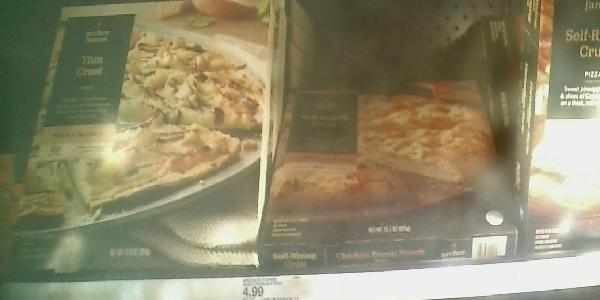pizza1: (31, 1, 268, 268), (260, 69, 518, 255)
